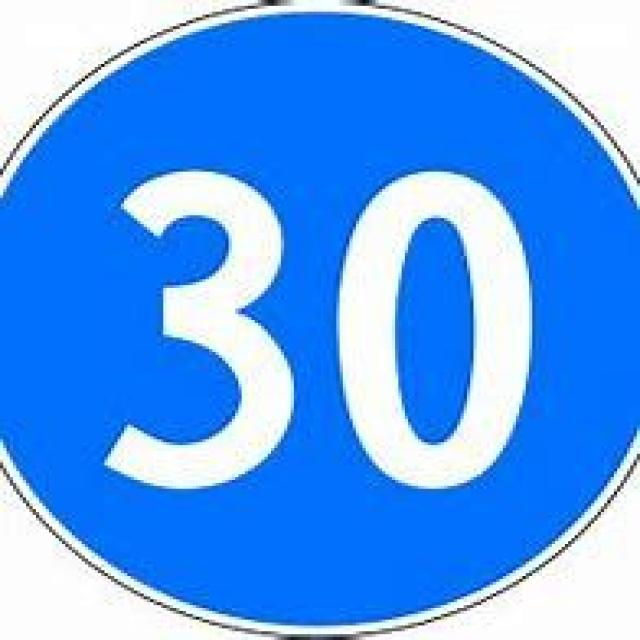compulsory_keep_right: (0, 0, 637, 637)
